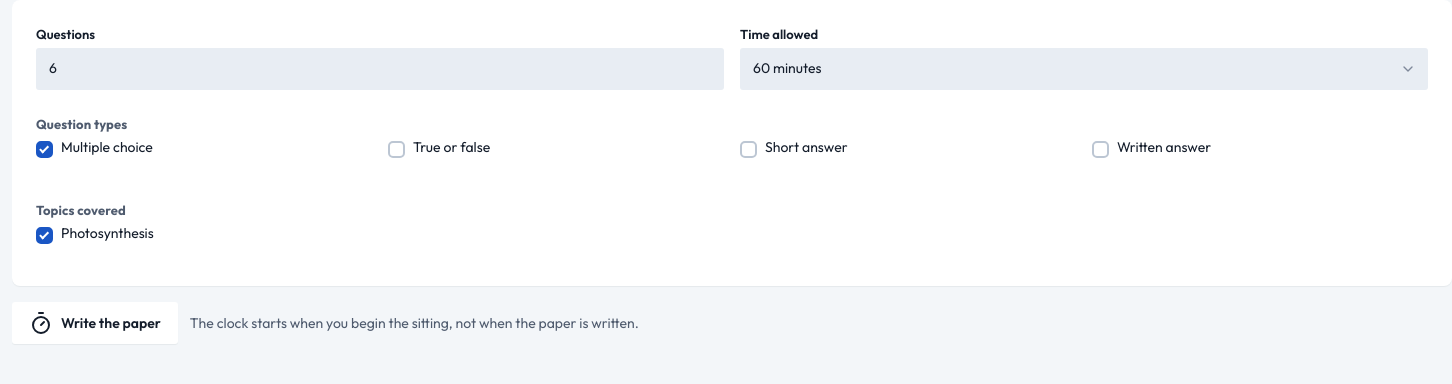
Scenario: ExamMockExamBuilder › refuses a count above the bound the backend enforces
The image size is (1452, 384).
Replace the text in the number field labelled "Questions" with "21" at coordinates (380, 69), box [36,48,724,90]
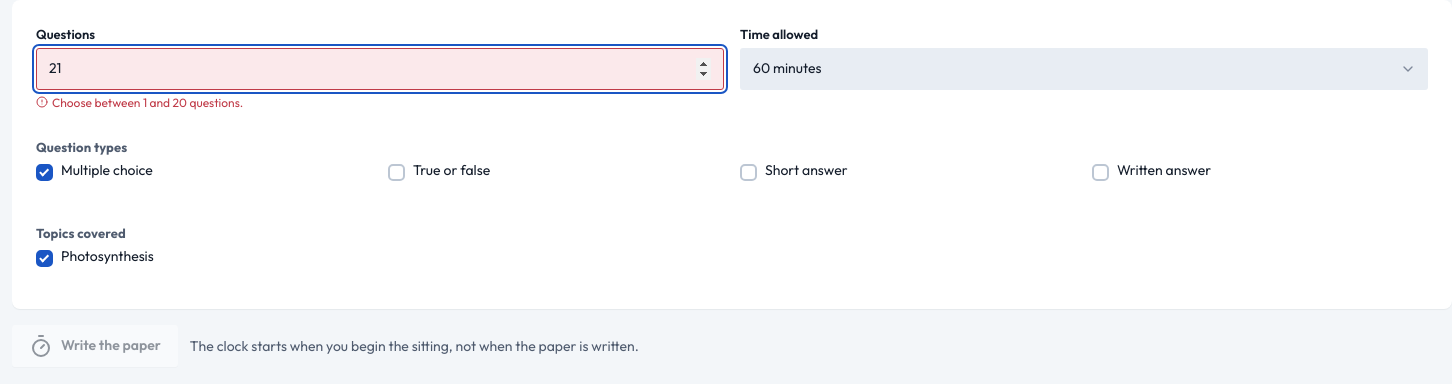
Expected: the button "Write the paper" is disabled, [12,325,178,367]
Expected: the text "Choose between 1 and 20 questions." is shown, [36,95,243,110]
